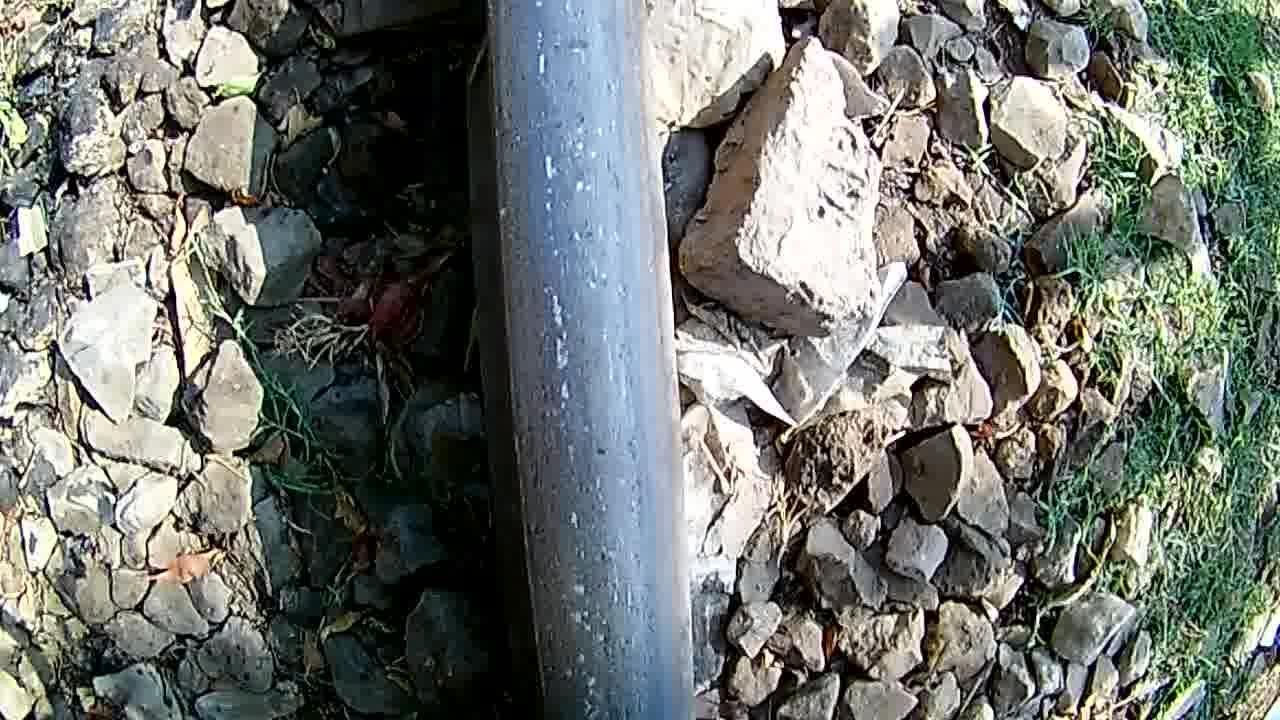clip_missing: (490, 0, 692, 720)
